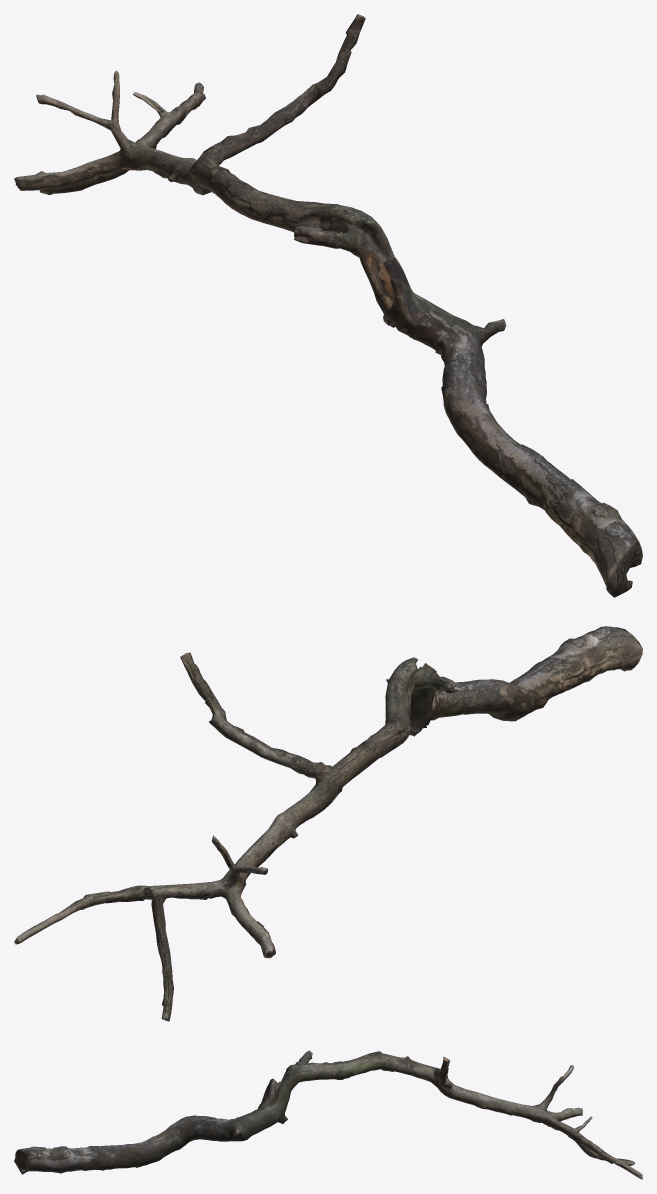
File: dry_branches_medium_01_a.glb
The picture shows the model from 3 angles, top to bottom: view 1: azimuth 30°, elevation 25°; view 2: azimuth 150°, elevation 25°; view 3: azimuth 270°, elevation 25°; orthographic projection. The views are drawn at different scales.
Parts seen in each view (by area): view 1: dry_branches_medium_01_a.001; view 2: dry_branches_medium_01_a.001; view 3: dry_branches_medium_01_a.001.
Part boxes in pixels (left/top/right/bottom): dry_branches_medium_01_a.001: left=14, top=14, right=642, bottom=597; dry_branches_medium_01_a.001: left=14, top=626, right=642, bottom=1021; dry_branches_medium_01_a.001: left=14, top=1050, right=642, bottom=1179.
Bounding box in the file's own units: 0.3231 × 0.341 × 1.3.
1 material, 1 textured.
